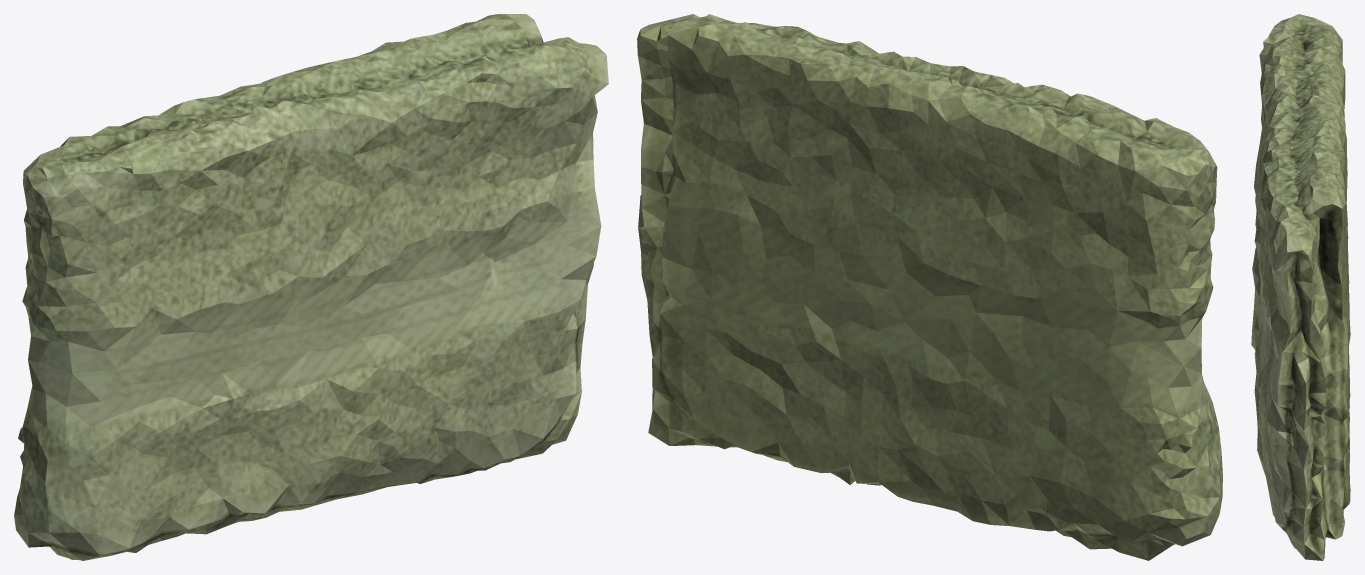
3 renders of one model, left to right at view 1: azimuth 30°, elevation 25°; view 2: azimuth 150°, elevation 25°; view 3: azimuth 270°, elevation 25°, orthographic. The views are drawn at different scales.
Bounding box in the file's own units: 0.177 × 0.1288 × 0.0321.
1 material, 1 textured.
